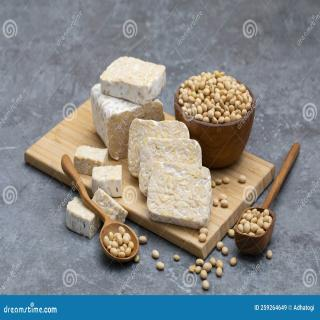Tempe: (62, 154, 140, 263), (147, 161, 213, 230), (139, 137, 203, 198), (67, 188, 129, 240), (67, 197, 102, 240), (92, 188, 129, 224), (74, 146, 109, 177), (92, 165, 123, 198)
